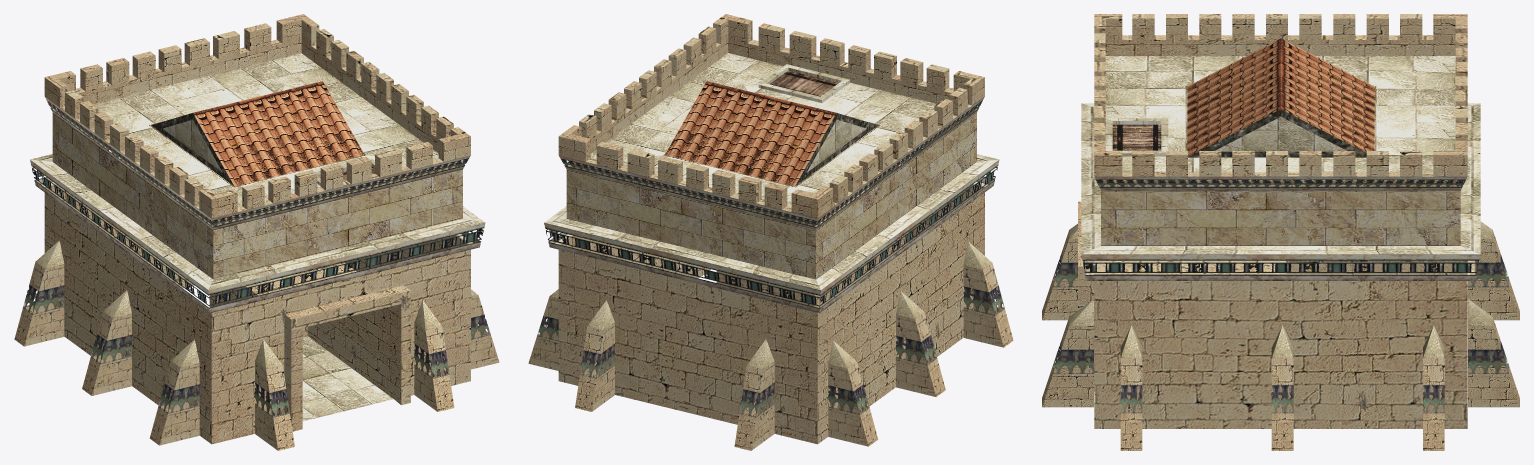
Rendered from kart_fortress.dae.
3 views of the same model, side by side, from view 1: azimuth 30°, elevation 25°; view 2: azimuth 150°, elevation 25°; view 3: azimuth 270°, elevation 25° (orthographic). The views are drawn at different scales.
Parts seen in each view (by area): view 1: Box06; view 2: Box06; view 3: Box06.
Part boxes in pixels (x1,y1,x2,y2): Box06: (14,14,499,450); Box06: (528,14,1013,450); Box06: (1042,14,1519,450).
Size of the model in its own units: 28.12 by 20.11 by 30.62.
